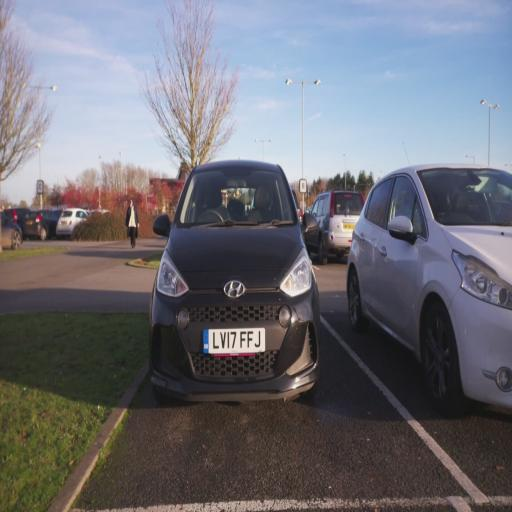numberplates: (203, 329, 265, 355), (344, 224, 354, 230), (60, 221, 67, 225), (27, 221, 32, 225)
